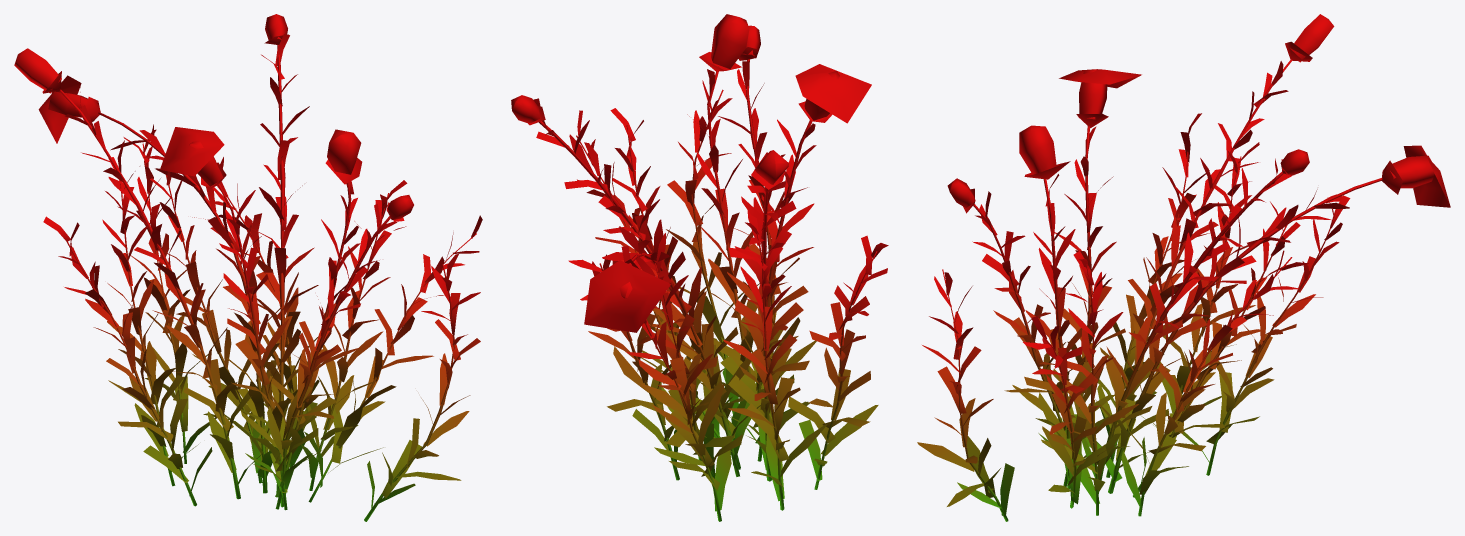
File: Var4_LOD2.fbx
The picture shows the model from 3 angles, left to right: view 1: azimuth 30°, elevation 25°; view 2: azimuth 150°, elevation 25°; view 3: azimuth 270°, elevation 25°; orthographic projection. The views are drawn at different scales.
Visible parts, largest first — view 1: _dz2p_Var4_LOD2; view 2: _dz2p_Var4_LOD2; view 3: _dz2p_Var4_LOD2.
Part boxes in pixels (x1=…): _dz2p_Var4_LOD2: x1=14, y1=14, x2=482, y2=521; _dz2p_Var4_LOD2: x1=511, y1=14, x2=888, y2=521; _dz2p_Var4_LOD2: x1=917, y1=14, x2=1450, y2=521.
Size of the model in its own units: 19.43 by 21.05 by 24.51.
